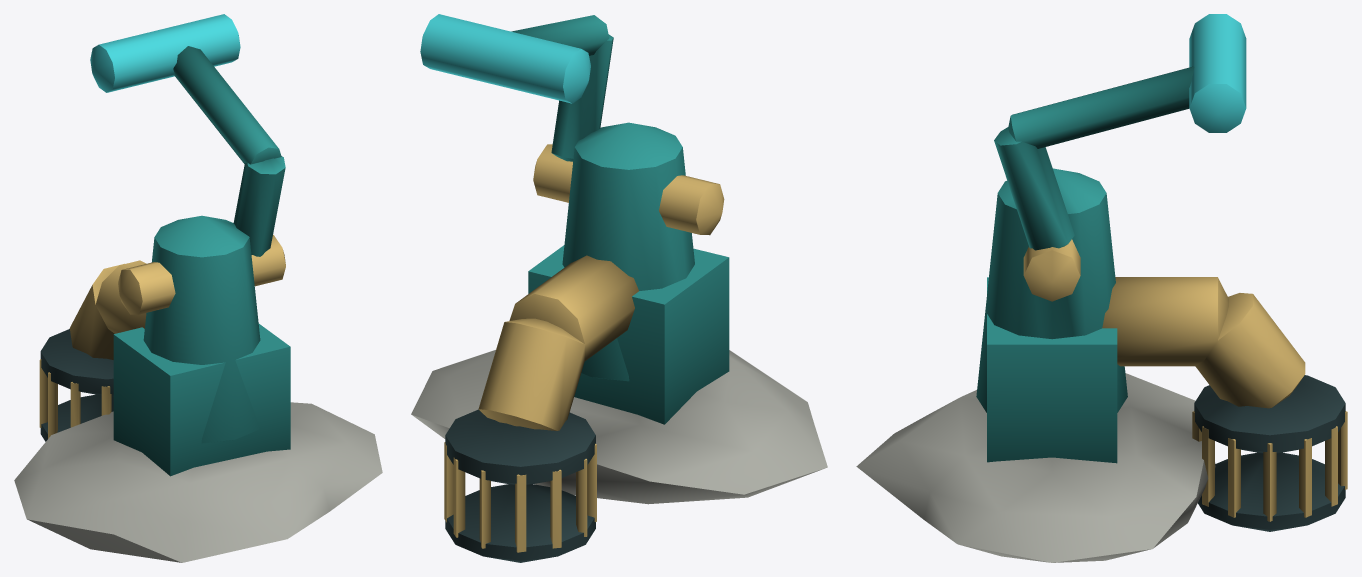
The model's file is EDV2_CreekPump.fbx.
3 renders of one model, left to right at view 1: azimuth 30°, elevation 25°; view 2: azimuth 150°, elevation 25°; view 3: azimuth 270°, elevation 25°, orthographic. The views are drawn at different scales.
Parts seen in each view (by area): view 1: Base.001, Body.001, Handle, Strainer, Pipe, Hardware.003; view 2: Body.001, Base.001, Strainer, Pipe, Handle, Hardware.003; view 3: Base.001, Body.001, Handle, Strainer, Pipe, Hardware.003.
Part boxes in pixels (<box>): Base.001: <box>14,402,382,562</box>; Body.001: <box>113,215,290,476</box>; Handle: <box>90,14,285,256</box>; Strainer: <box>39,329,113,441</box>; Pipe: <box>69,260,146,359</box>; Hardware.003: <box>118,234,285,314</box>; Body.001: <box>528,122,729,424</box>; Base.001: <box>411,350,827,504</box>; Strainer: <box>444,409,596,562</box>; Pipe: <box>478,255,638,430</box>; Handle: <box>420,14,613,161</box>; Hardware.003: <box>533,144,724,235</box>; Base.001: <box>856,373,1215,562</box>; Body.001: <box>976,168,1127,463</box>; Handle: <box>994,14,1246,250</box>; Strainer: <box>1192,375,1347,531</box>; Pipe: <box>1102,277,1305,408</box>; Hardware.003: <box>1023,239,1080,301</box>.
Bounding box in the file's own units: 0.1942 × 0.2344 × 0.2075.
